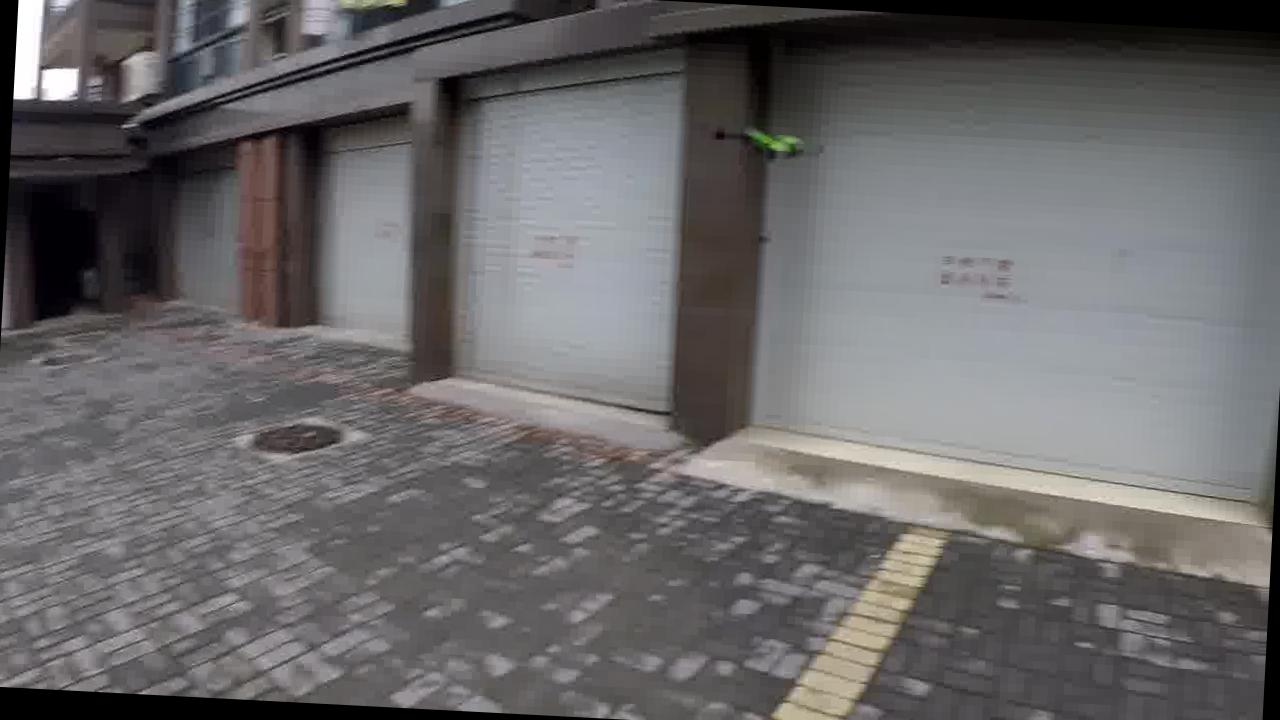drone: (708, 108, 828, 164)
